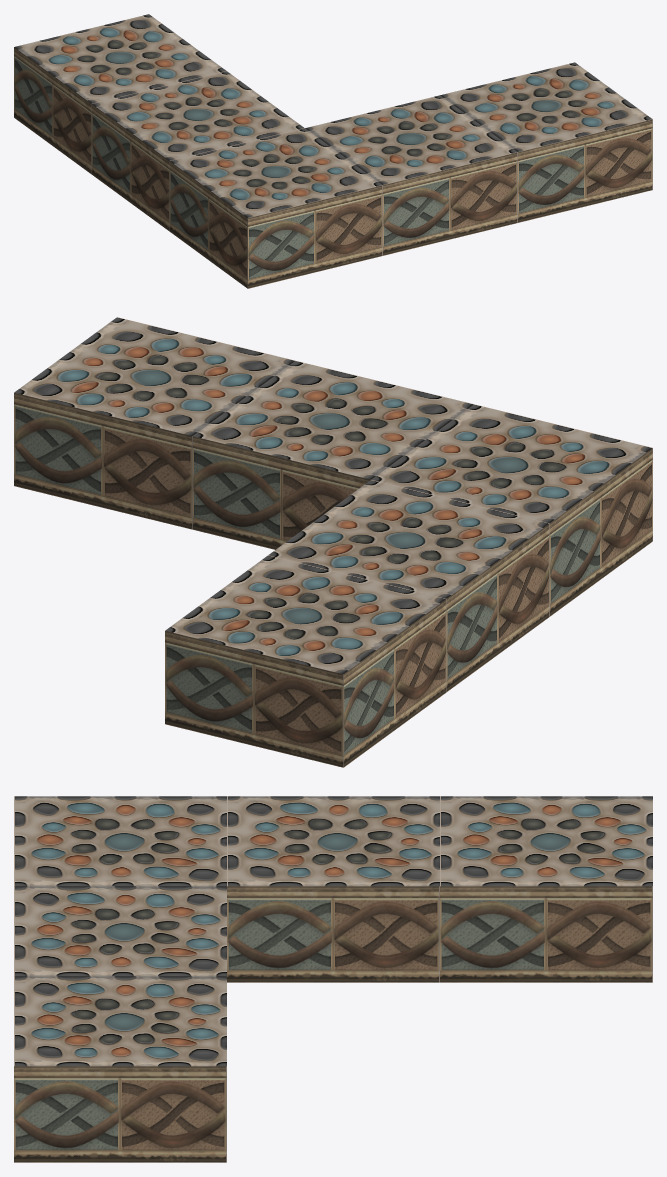
File: DI_009_pattern_block_var08.glb
The picture shows the model from 3 angles, top to bottom: view 1: azimuth 30°, elevation 25°; view 2: azimuth 150°, elevation 25°; view 3: azimuth 270°, elevation 25°; orthographic projection. The views are drawn at different scales.
Parts seen in each view (by area): view 1: Block.024, Block.027, Block.028, Block.029, Block.025; view 2: Block.029, Block.028, Block.027, Block.025, Block.024; view 3: Block.025, Block.028, Block.029, Block.024, Block.027.
Boxes of the visible parts, <box> form: Block.024: <box>170,128,382,288</box>; Block.027: <box>305,95,517,255</box>; Block.028: <box>440,62,652,222</box>; Block.029: <box>14,14,226,174</box>; Block.025: <box>92,71,304,231</box>; Block.029: <box>165,555,446,767</box>; Block.028: <box>14,317,295,529</box>; Block.027: <box>192,361,473,549</box>; Block.025: <box>268,480,549,691</box>; Block.024: <box>371,404,652,616</box>; Block.025: <box>227,796,439,982</box>; Block.028: <box>14,976,226,1162</box>; Block.029: <box>440,796,652,982</box>; Block.024: <box>14,796,226,886</box>; Block.027: <box>14,886,226,976</box>.
Size of the model in its own units: 2.25 by 0.375 by 2.25.
Materials: 1 (1 with a texture image).
